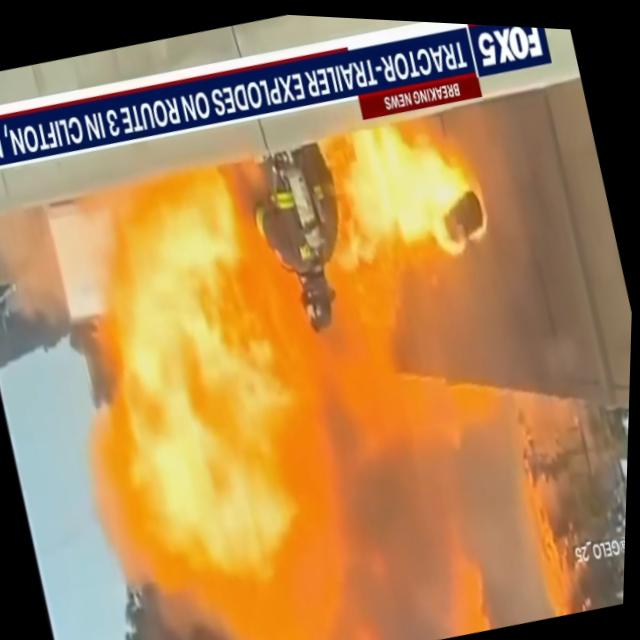Fire: (30, 91, 596, 640)
